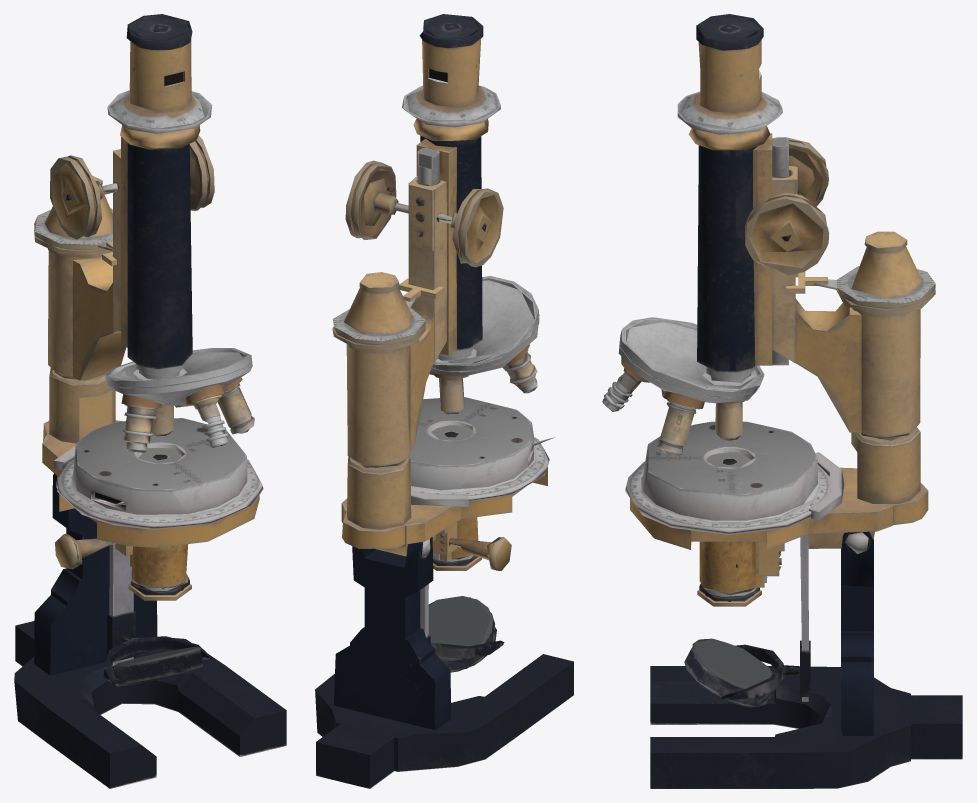
Rendered from vintage_microscope.glb.
The picture shows the model from 3 angles, left to right: view 1: azimuth 30°, elevation 25°; view 2: azimuth 150°, elevation 25°; view 3: azimuth 270°, elevation 25°; orthographic projection. The views are drawn at different scales.
Parts seen in each view (by area): view 1: vintage_microscope_mirror_arm, vintage_microscope_mirror_base; view 2: vintage_microscope_mirror_arm, vintage_microscope_mirror_base; view 3: vintage_microscope_mirror_arm, vintage_microscope_mirror_base.
Part boxes in pixels (box(x1,y1,x2,y2)): vintage_microscope_mirror_arm: box(14, 14, 286, 788); vintage_microscope_mirror_base: box(112, 646, 205, 686); vintage_microscope_mirror_arm: box(315, 14, 573, 788); vintage_microscope_mirror_base: box(428, 596, 496, 672); vintage_microscope_mirror_arm: box(602, 14, 962, 788); vintage_microscope_mirror_base: box(684, 638, 772, 707).
Bounding box in the file's own units: 0.1054 × 0.3996 × 0.1819.
Materials: 2 (2 with a texture image).
